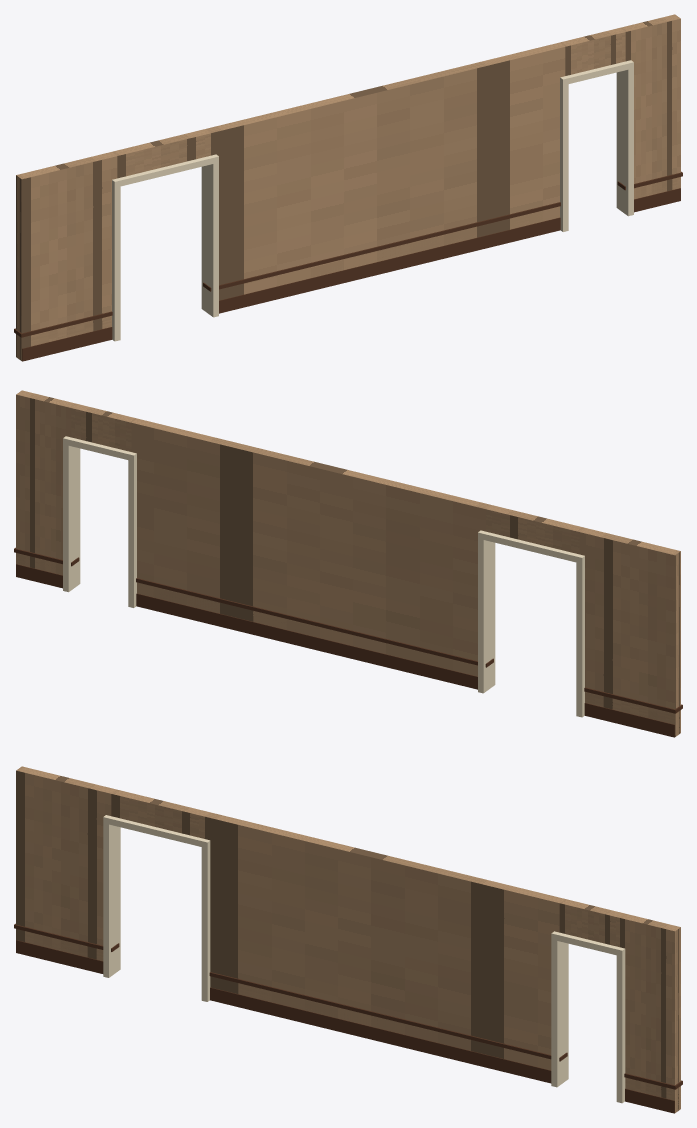
File: hall_front.glb
3 views of the same model, one above another, from view 1: azimuth 30°, elevation 25°; view 2: azimuth 150°, elevation 25°; view 3: azimuth 330°, elevation 25° (orthographic).
Visible parts, largest first — view 1: Box3, Box1, Box5, Box4, Box10, Box7, Box13, Box8, Box18, Box9, Box12, Box2 (+5 smaller); view 2: Box3, Box1, Box5, Box4, Box10, Box7, Box13, Box8, Box18, Box9, Box12, Box2 (+4 smaller); view 3: Box3, Box1, Box5, Box4, Box9, Box7, Box12, Box8, Box18, Box10, Box13, Box17 (+6 smaller).
Boxes of the visible parts, x1,y1,x2,y2 form: Box3: (205,42,565,300); Box1: (16,152,117,360); Box5: (620,14,680,199); Box4: (219,217,560,313); Box10: (201,154,218,317); Box7: (112,129,210,178); Box13: (616,60,633,216); Box8: (560,28,625,75); Box18: (203,202,560,291); Box9: (112,178,120,341); Box12: (560,76,568,231); Box2: (22,327,112,361); Box3: (131,418,491,676); Box1: (579,528,680,736); Box5: (16,390,76,575); Box4: (136,593,477,689); Box10: (478,530,495,693); Box7: (486,505,584,554); Box13: (63,436,80,592); Box8: (71,404,136,451); Box18: (136,578,493,667); Box9: (576,554,584,717); Box12: (128,452,136,607); Box2: (584,703,674,737); Box3: (205,812,564,1070); Box1: (16,766,116,960); Box5: (620,913,680,1112); Box4: (210,987,551,1083); Box9: (103,815,120,977); Box7: (111,789,210,838); Box12: (551,931,568,1087); Box8: (559,899,624,947); Box18: (209,972,567,1061); Box10: (201,839,210,1001); Box13: (616,947,625,1103); Box17: (210,976,459,1041).
Bounding box in the file's own units: 9.89 × 2.6 × 0.3.
3 materials, 1 textured.
